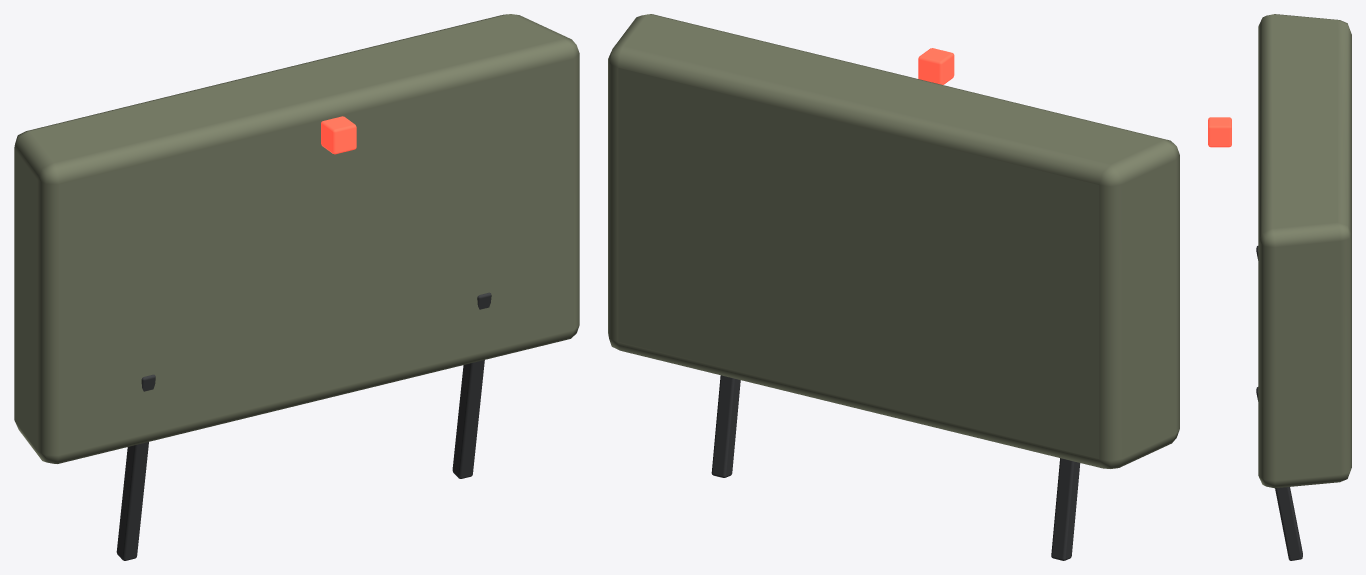
Rendered from tripwire_mine.glb.
3 views of the same model, side by side, from view 1: azimuth 30°, elevation 25°; view 2: azimuth 150°, elevation 25°; view 3: azimuth 270°, elevation 25° (orthographic). The views are drawn at different scales.
Visible parts, largest first — view 1: Body, Leg, Leg.001, Light; view 2: Body, Leg, Leg.001, Light; view 3: Body, Leg.001, Light.
Part boxes in pixels (box(x1,y1,x2,y2)): Body: box(14, 14, 579, 463); Leg: box(116, 374, 155, 560); Leg.001: box(452, 292, 491, 478); Light: box(321, 116, 356, 154); Body: box(608, 14, 1179, 468); Leg: box(1051, 458, 1080, 560); Leg.001: box(711, 375, 740, 477); Light: box(918, 48, 954, 84); Body: box(1258, 14, 1351, 488); Leg.001: box(1256, 387, 1302, 560); Light: box(1208, 117, 1231, 147).
Size of the model in its own units: 0.2243 by 0.1697 by 0.0603.
